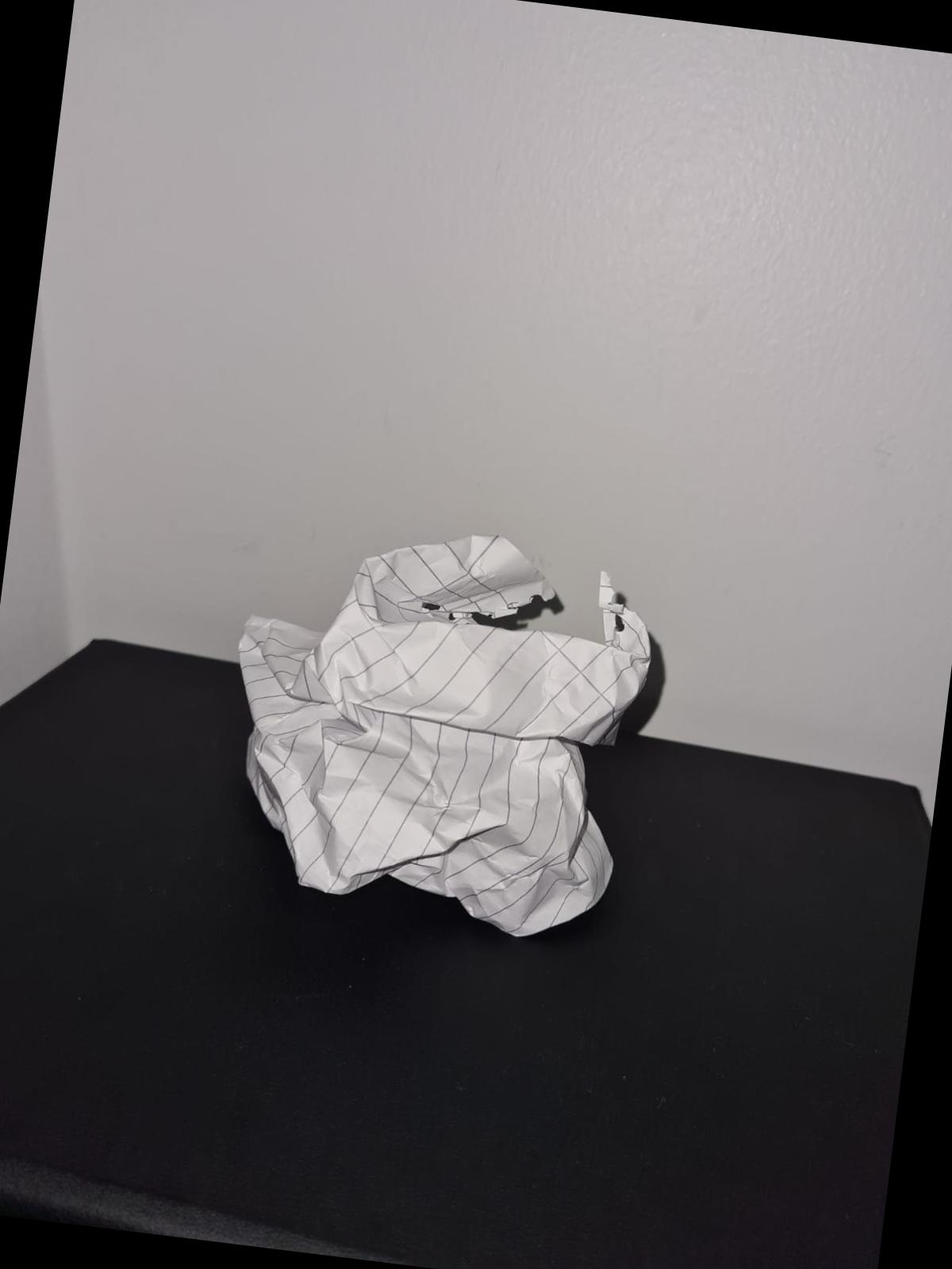Kertas: (184, 512, 679, 968), (239, 535, 650, 937)
